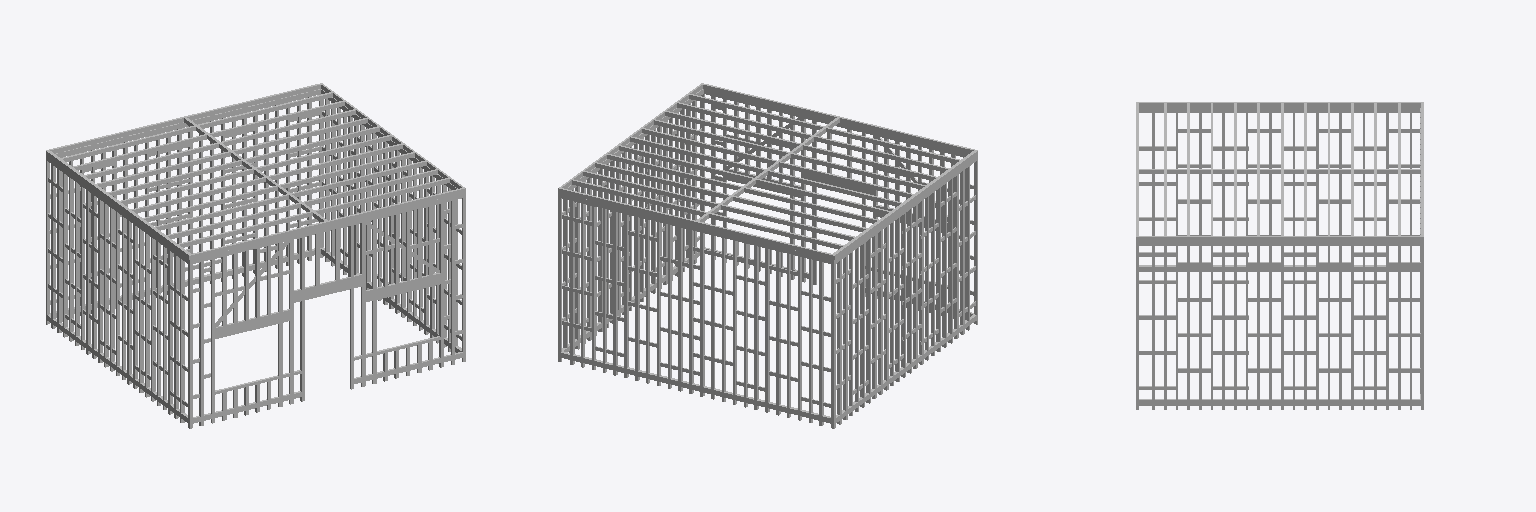
The model's file is Frame_FlatCrossed.obj.
3 views of the same model, side by side, from view 1: azimuth 30°, elevation 25°; view 2: azimuth 150°, elevation 25°; view 3: azimuth 270°, elevation 25° (orthographic).
Visible parts, largest first — view 1: Frame_FlatCrossed; view 2: Frame_FlatCrossed; view 3: Frame_FlatCrossed.
Part boxes in pixels (bbox=[...]): Frame_FlatCrossed: bbox=[46, 83, 465, 428]; Frame_FlatCrossed: bbox=[558, 83, 977, 428]; Frame_FlatCrossed: bbox=[1136, 102, 1423, 409].
Size of the model in its own units: 518 by 310 by 467.